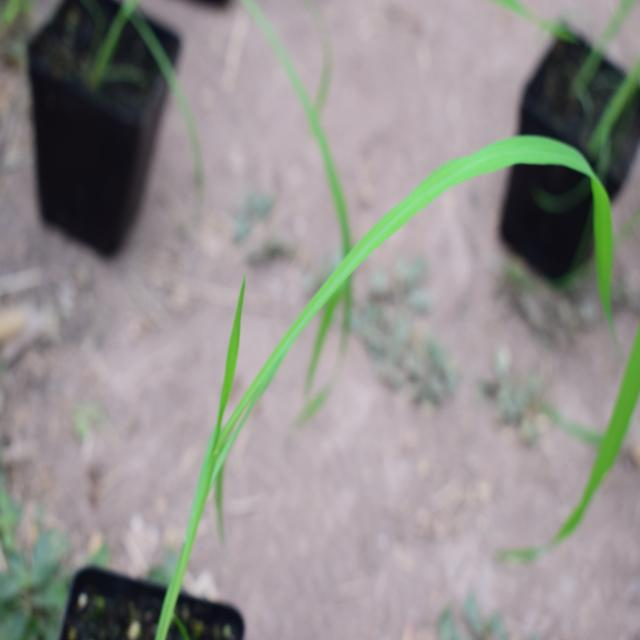barnyard_grass: (159, 130, 612, 584)
